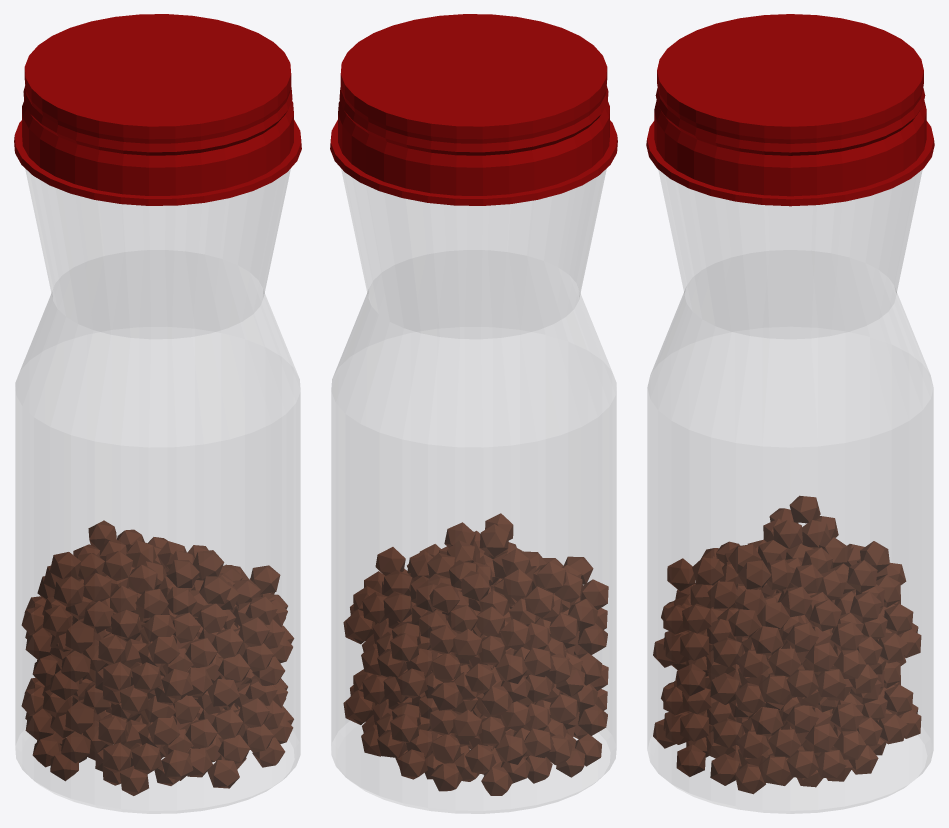
Rendered from CoffeeBottle.fbx.
3 views of the same model, side by side, from view 1: azimuth 30°, elevation 25°; view 2: azimuth 150°, elevation 25°; view 3: azimuth 270°, elevation 25° (orthographic).
Visible parts, largest first — view 1: Bottle, Icosphere, Lid; view 2: Bottle, Icosphere, Lid; view 3: Bottle, Icosphere, Lid.
Part boxes in pixels (x1,y1,x2,y2): Bottle: (15, 169, 300, 813); Icosphere: (21, 520, 294, 795); Lid: (14, 14, 301, 205); Bottle: (331, 169, 616, 813); Icosphere: (343, 513, 608, 795); Lid: (330, 14, 617, 205); Bottle: (647, 170, 933, 813); Icosphere: (653, 495, 921, 794); Lid: (646, 14, 934, 206).
Size of the model in its own units: 202 by 529 by 202.
